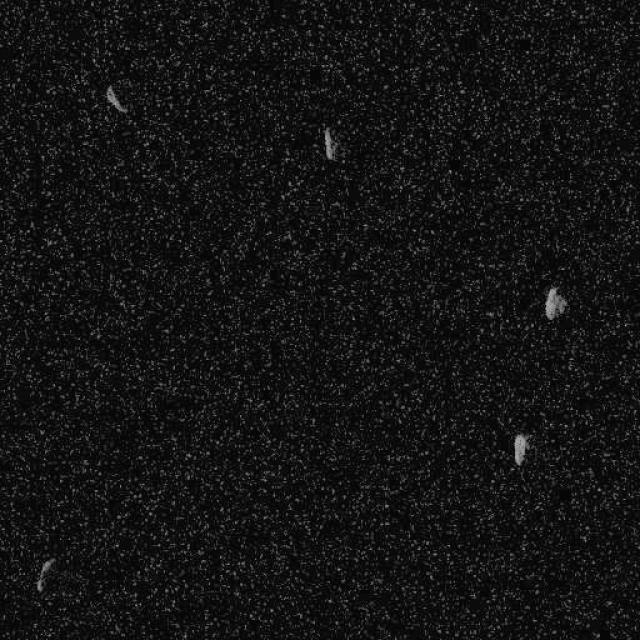D2: (542, 285, 568, 320), (35, 556, 56, 592), (104, 84, 128, 114), (511, 432, 529, 466), (322, 125, 336, 161)
